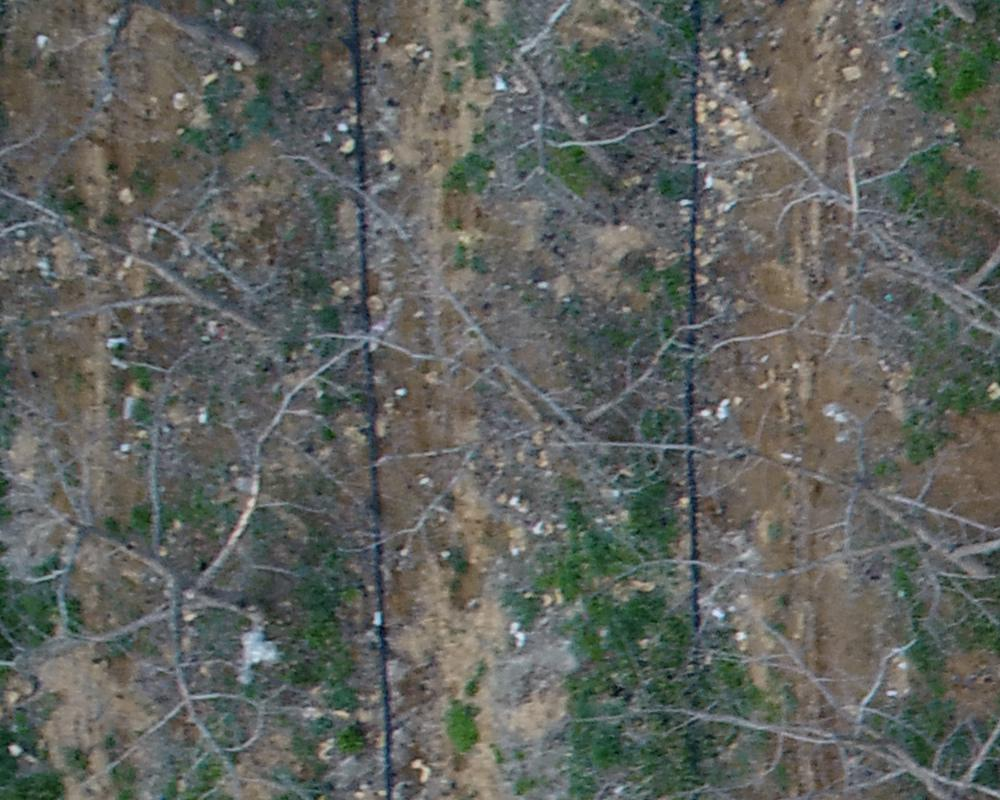apple: (317, 163, 778, 561), (20, 308, 397, 790), (731, 85, 990, 420), (11, 151, 319, 388), (607, 611, 990, 790), (731, 423, 990, 647), (473, 10, 719, 208)
